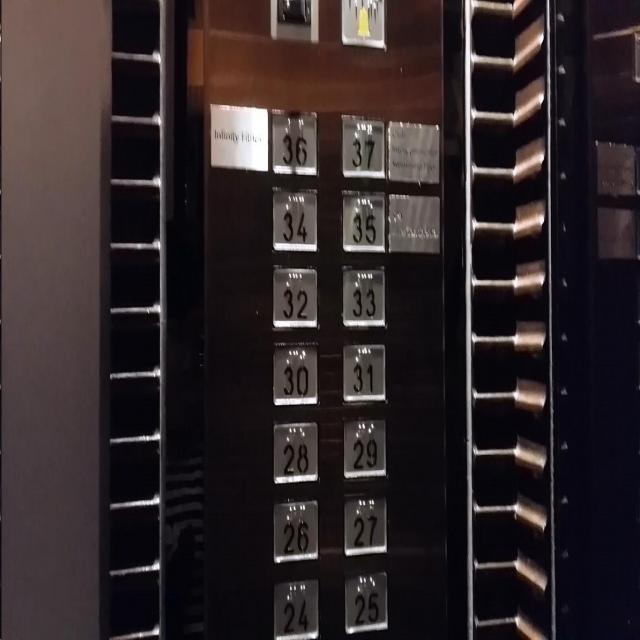24: (273, 573, 319, 639)
25: (342, 565, 389, 633)
26: (272, 494, 318, 562)
27: (340, 492, 388, 560)
28: (271, 417, 318, 485)
29: (341, 412, 388, 480)
30: (272, 337, 318, 405)
31: (340, 337, 387, 405)
32: (270, 262, 318, 329)
33: (340, 263, 387, 331)
34: (270, 185, 318, 253)
35: (339, 187, 386, 254)
36: (272, 109, 318, 177)
37: (338, 112, 386, 179)
alarm: (339, 0, 389, 51)
